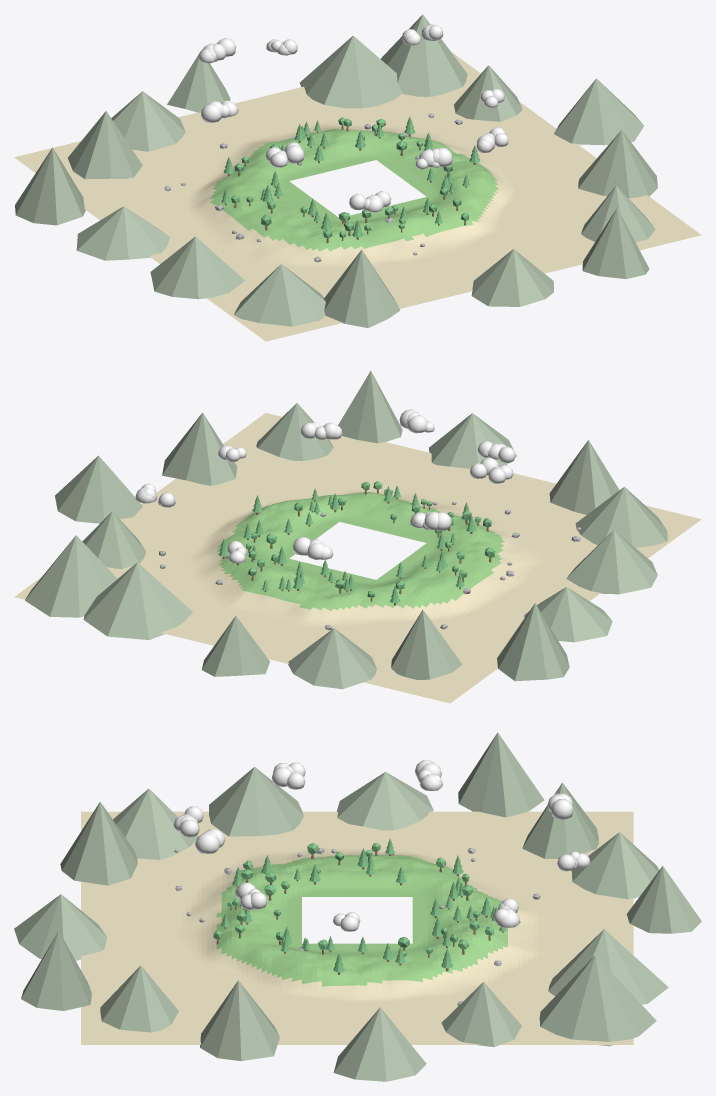
File: env.glb
3 renders of one model, top to bottom at view 1: azimuth 30°, elevation 25°; view 2: azimuth 150°, elevation 25°; view 3: azimuth 270°, elevation 25°, orthographic. The views are drawn at different scales.
Visible parts, largest first — view 1: island, cloud_5, cloud_6, cloud_3, cloud_7, cloud_4, cloud_8, cloud_1; view 2: island, cloud_5, cloud_3, cloud_4, cloud_8, cloud_6, cloud_7, cloud_1; view 3: island, cloud_5, cloud_4, cloud_6, cloud_8, cloud_1, cloud_7, cloud_3.
Part boxes in pixels (x1,y1,x2,y2): island: (14,14,701,341); cloud_5: (265,142,304,167); cloud_6: (349,191,391,212); cloud_3: (198,38,236,63); cloud_7: (415,147,452,168); cloud_4: (201,100,238,122); cloud_8: (476,127,508,152); cloud_1: (402,24,443,45); island: (14,370,701,703); cloud_5: (470,457,513,483); cloud_3: (293,536,333,559); cloud_4: (410,511,451,530); cloud_8: (300,422,342,439); cloud_6: (477,441,515,462); cloud_7: (399,409,434,433); cloud_1: (135,483,175,507); island: (14,732,701,1081); cloud_5: (271,762,305,789); cloud_4: (414,760,442,790); cloud_6: (173,806,203,837); cloud_8: (235,882,267,909); cloud_1: (493,898,520,927); cloud_7: (195,829,225,853); cloud_3: (547,793,573,819).
Size of the model in its own units: 284 by 49.26 by 274.
